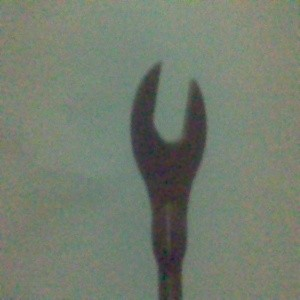spanner: (129, 59, 208, 300)
